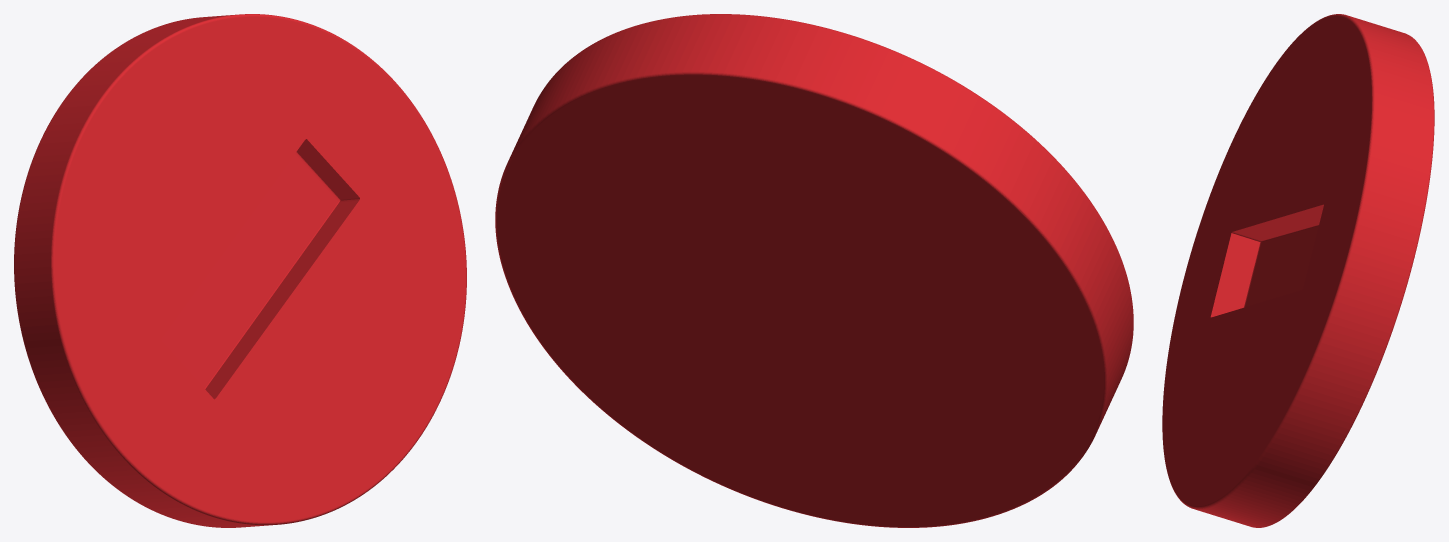
File: Stop.glb
3 views of the same model, side by side, from view 1: azimuth 30°, elevation 25°; view 2: azimuth 150°, elevation 25°; view 3: azimuth 270°, elevation 25° (orthographic). The views are drawn at different scales.
Visible parts, largest first — view 1: Цилиндр; view 2: Цилиндр; view 3: Цилиндр.
Part boxes in pixels (left/top/right/bottom): Цилиндр: left=14, top=14, right=466, bottom=527; Цилиндр: left=495, top=14, right=1133, bottom=527; Цилиндр: left=1162, top=14, right=1434, bottom=527.
Size of the model in its own units: 2.14 by 2.06 by 1.12.
